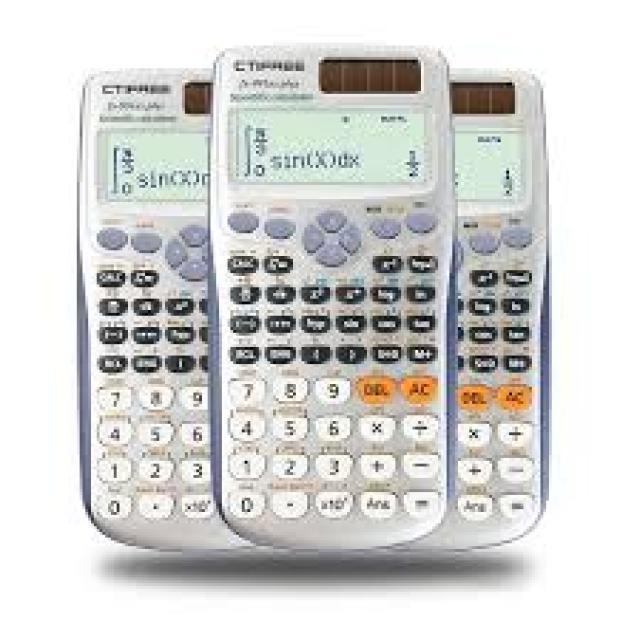Calculator: (210, 24, 472, 582), (67, 54, 228, 569), (433, 39, 549, 558)
